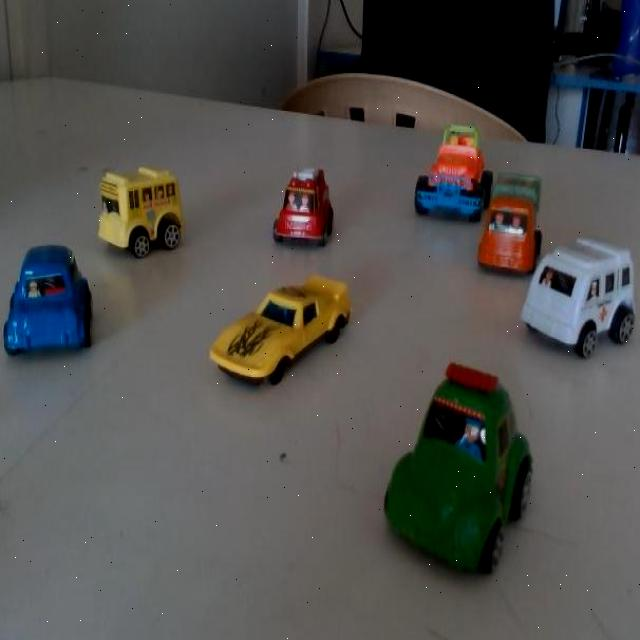car: (389, 367, 546, 556), (211, 262, 357, 396), (520, 221, 640, 373), (0, 235, 98, 373), (402, 112, 490, 224), (102, 163, 194, 267), (478, 160, 546, 278), (274, 154, 346, 259)
